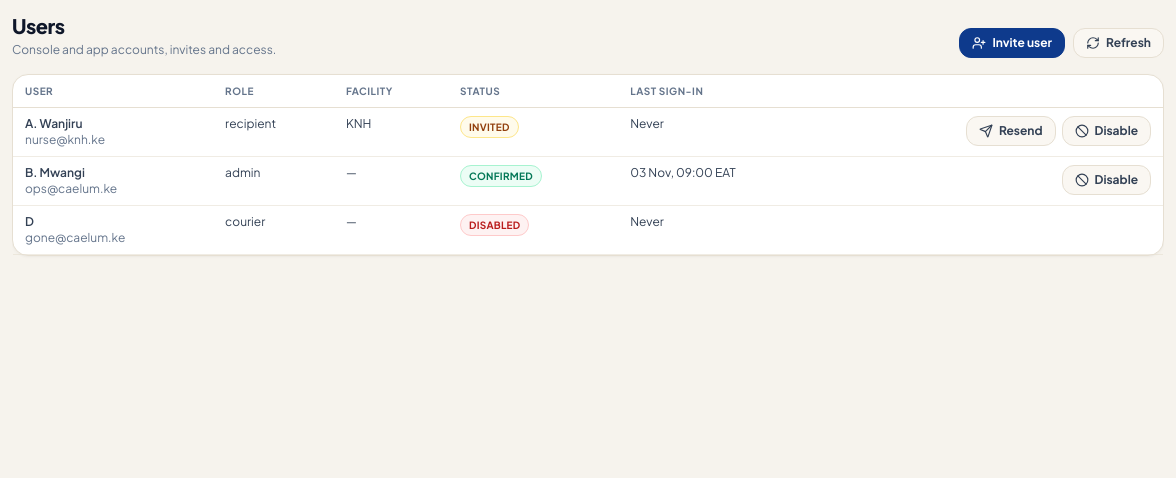
Scenario: UsersPage › shows a clear invite error (0)
The width and height of the screenshot is (1176, 478).
Click the button "Invite user".
click(1012, 43)  # box [960,28,1065,58]
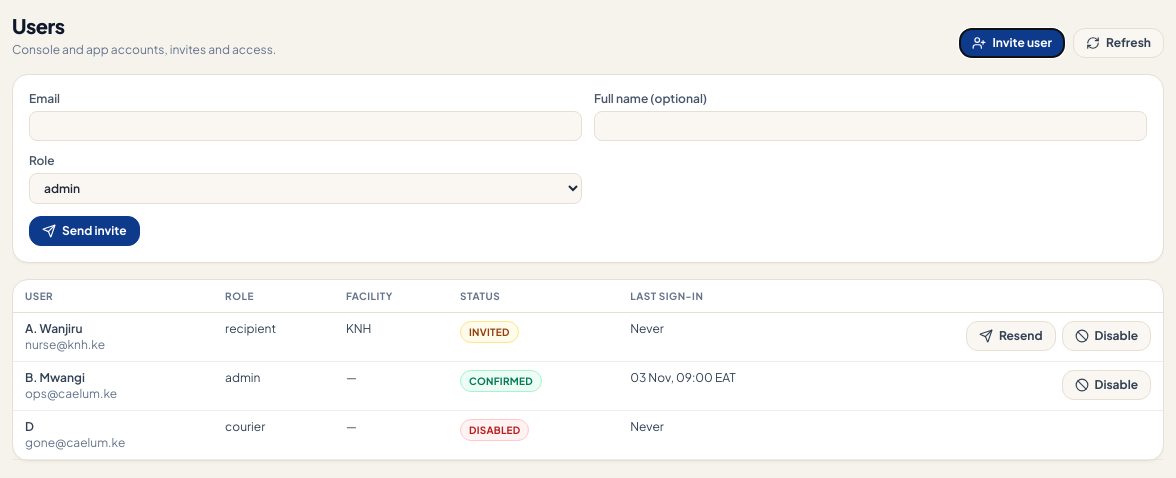
Type "ops@caelum.ke" into the field labelled "Email".
click(306, 126); type("ops@caelum.ke")  # box [29,111,582,141]
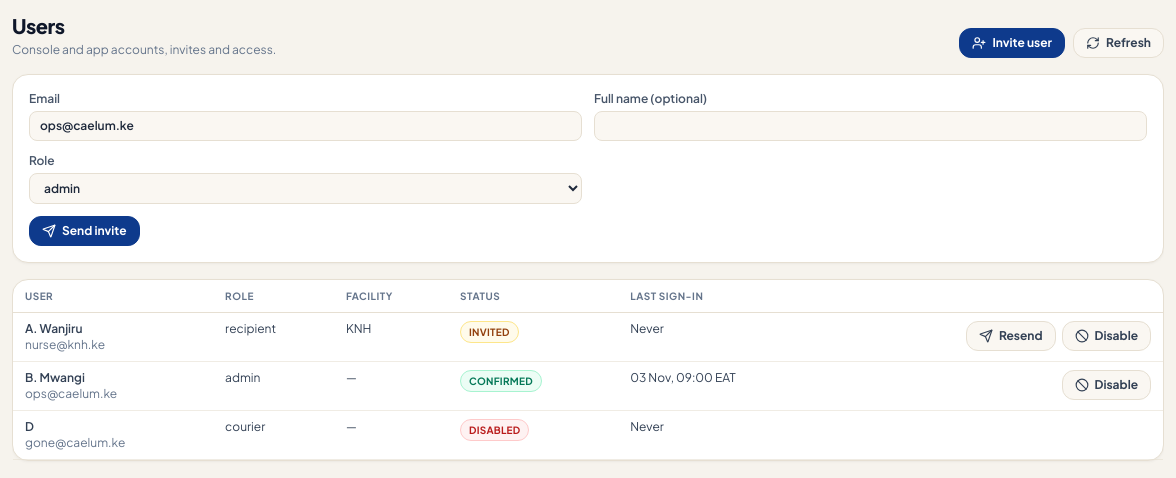
Type "B" into the field labelled "Full name (optional)".
click(870, 126); type("B")  # box [594,111,1147,141]
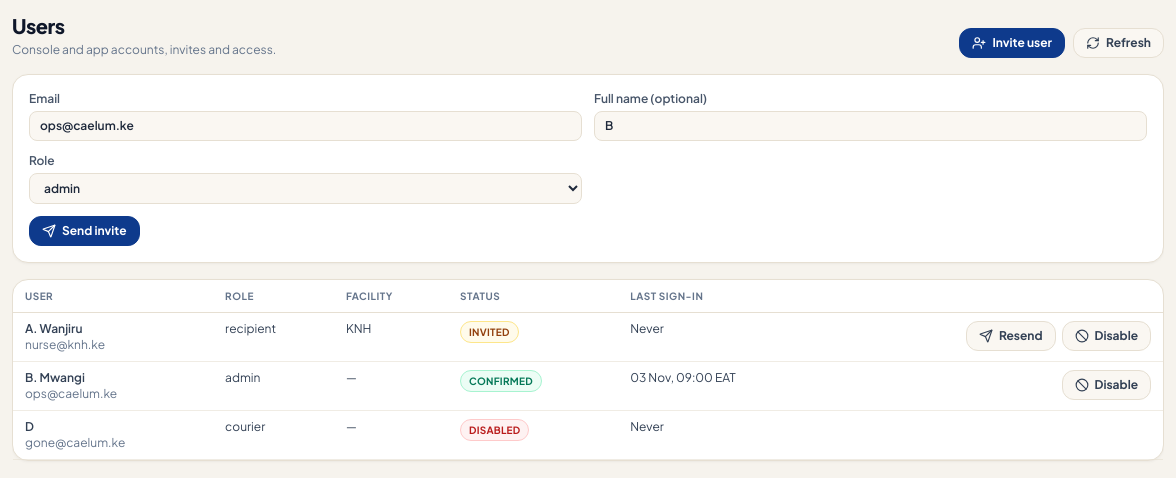
Click the button "Send invite".
click(84, 231)  # box [29,216,140,246]
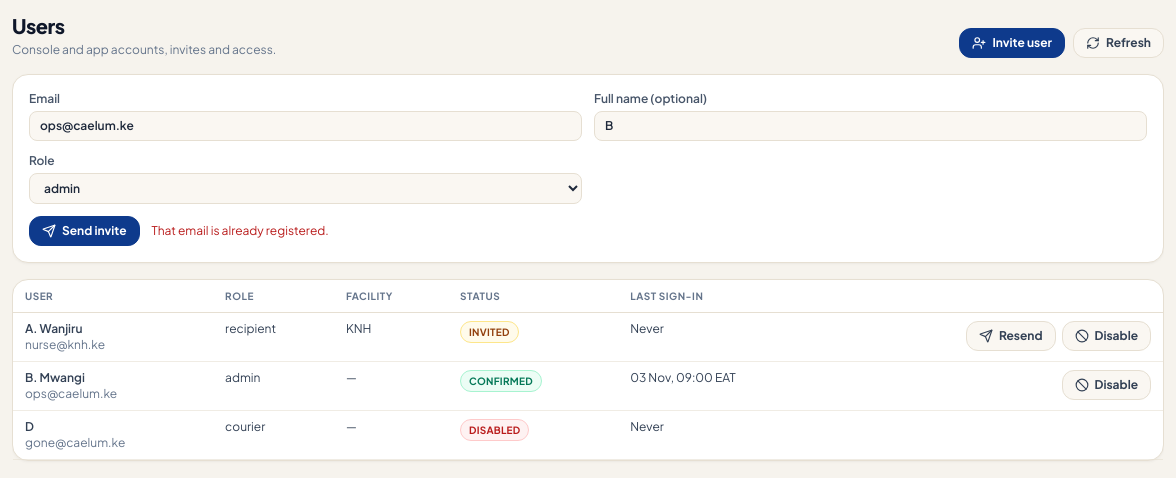
Expected: the message reads "That email is already registered.", [152,223,329,238]
